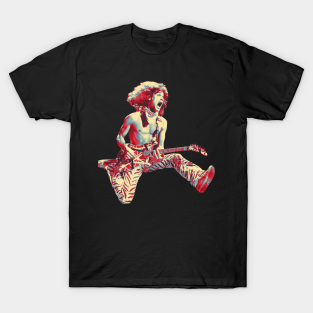design: (95, 78, 217, 206)
